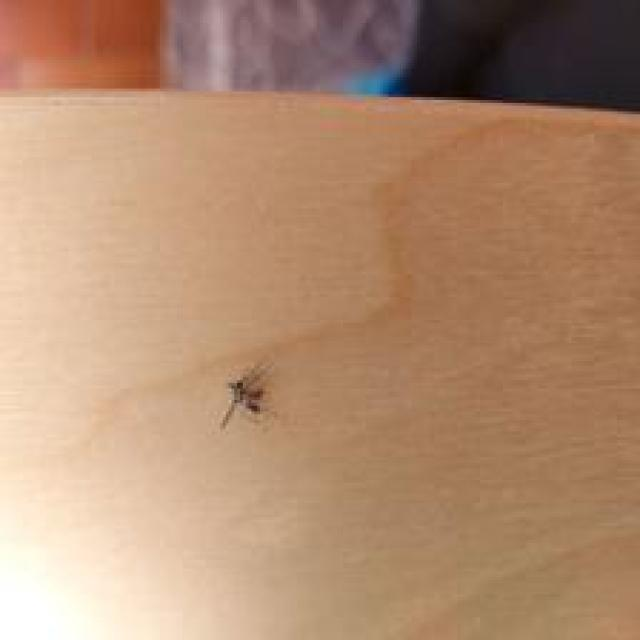Aedes albopictus: (217, 360, 277, 431)
